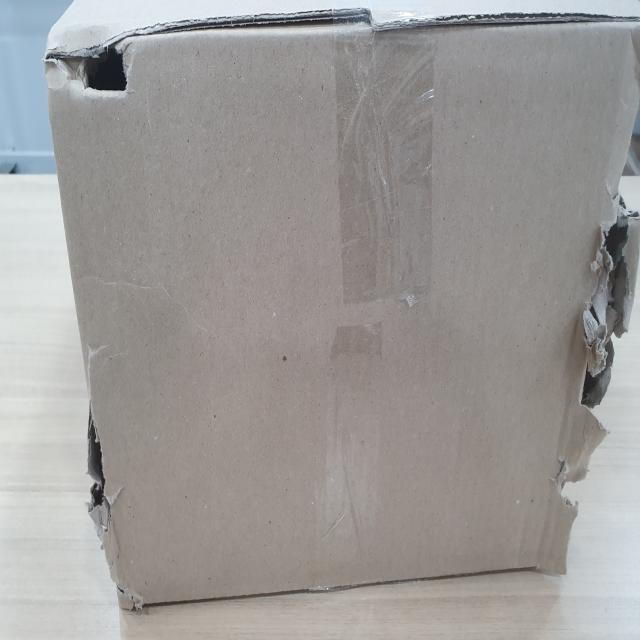hole: (581, 113, 637, 459), (56, 34, 138, 111)
